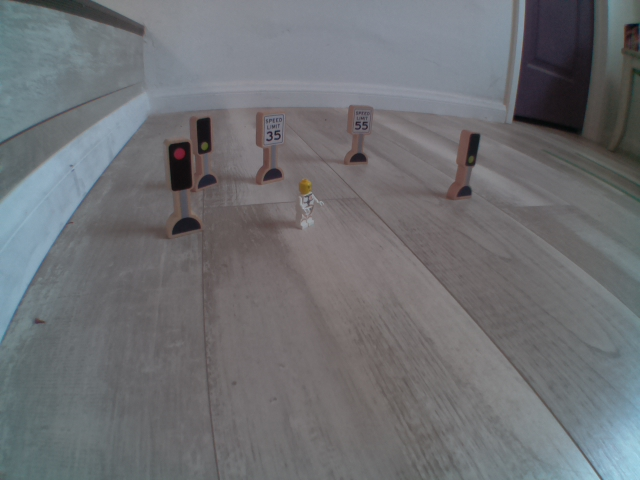Green Traffic Light: (462, 129, 481, 170), (196, 119, 215, 155)
Red Traffic Light: (167, 144, 195, 190)
Speed Limit 35: (256, 112, 297, 150)
Speed Limit 55: (350, 107, 372, 136)
person: (291, 174, 333, 232)
